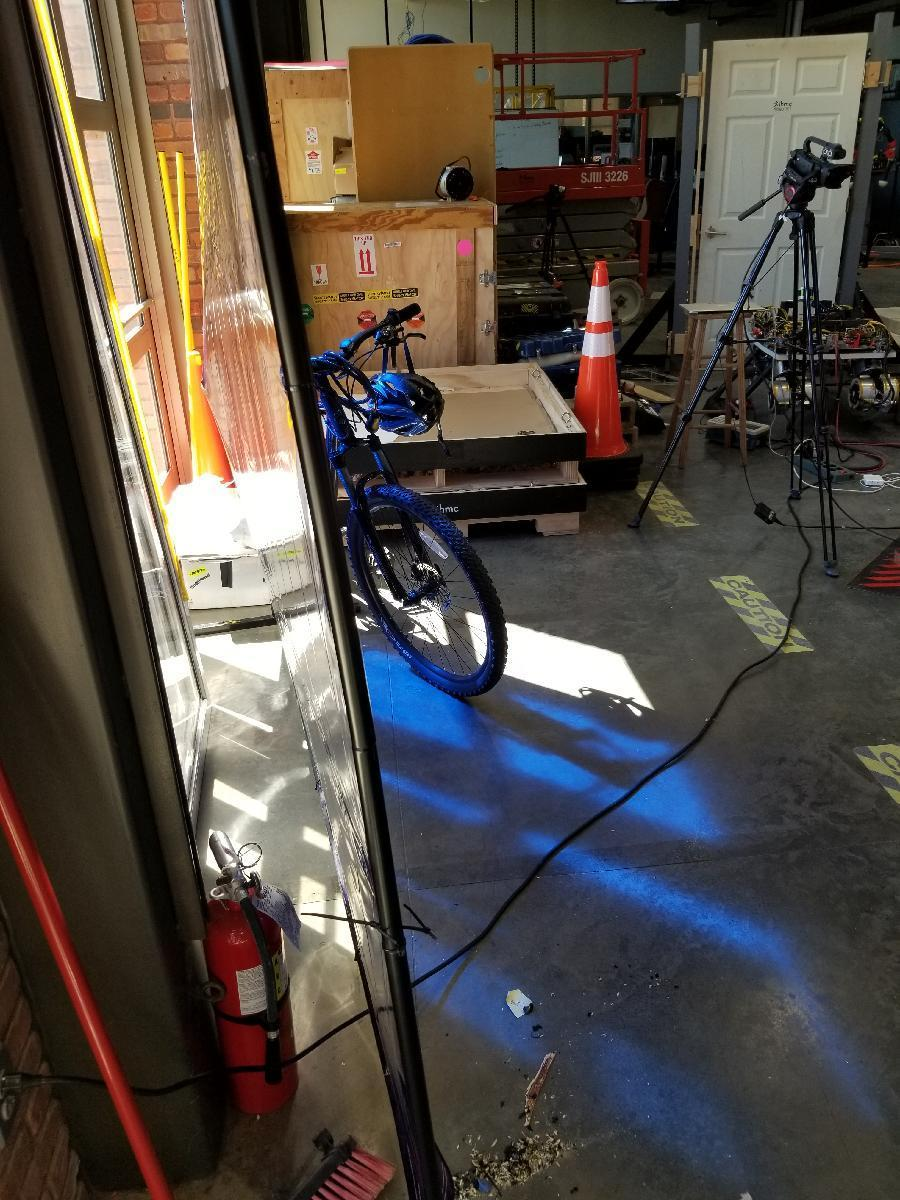door: (708, 38, 854, 324)
